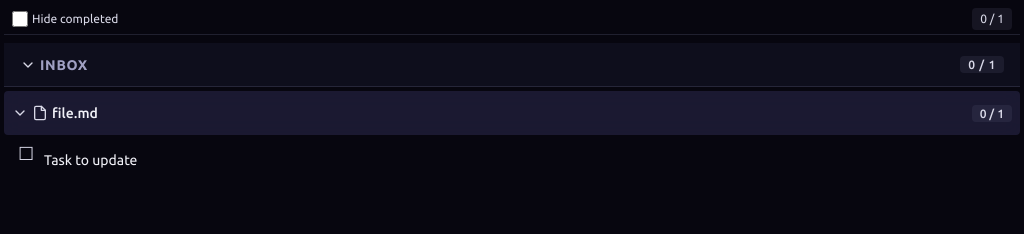
Scenario: TaskList › context menu › selects state from context menu
Right-click the button named "Toggle task: Task to update": (26, 153) left=4, top=131, right=48, bottom=175
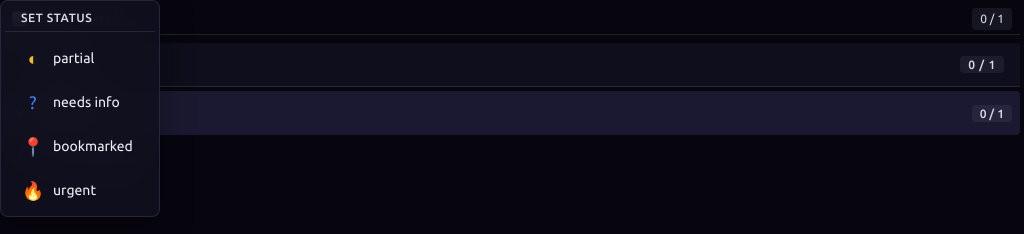
# Click "urgent" option
Click the menu item "🔥 urgent": (80, 190) left=5, top=168, right=155, bottom=212
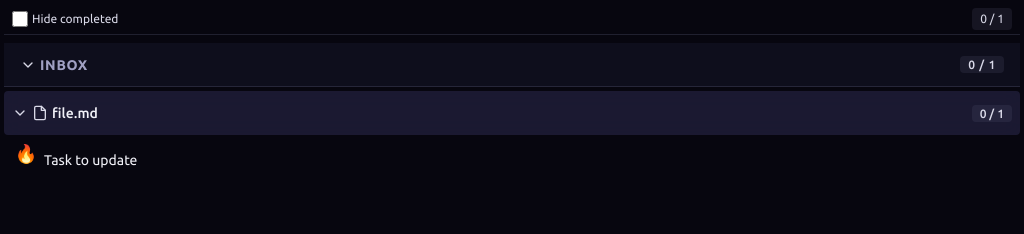
Expected: the text "file.md" is shown, left=52, top=105, right=98, bottom=121
Now the menu is gone
